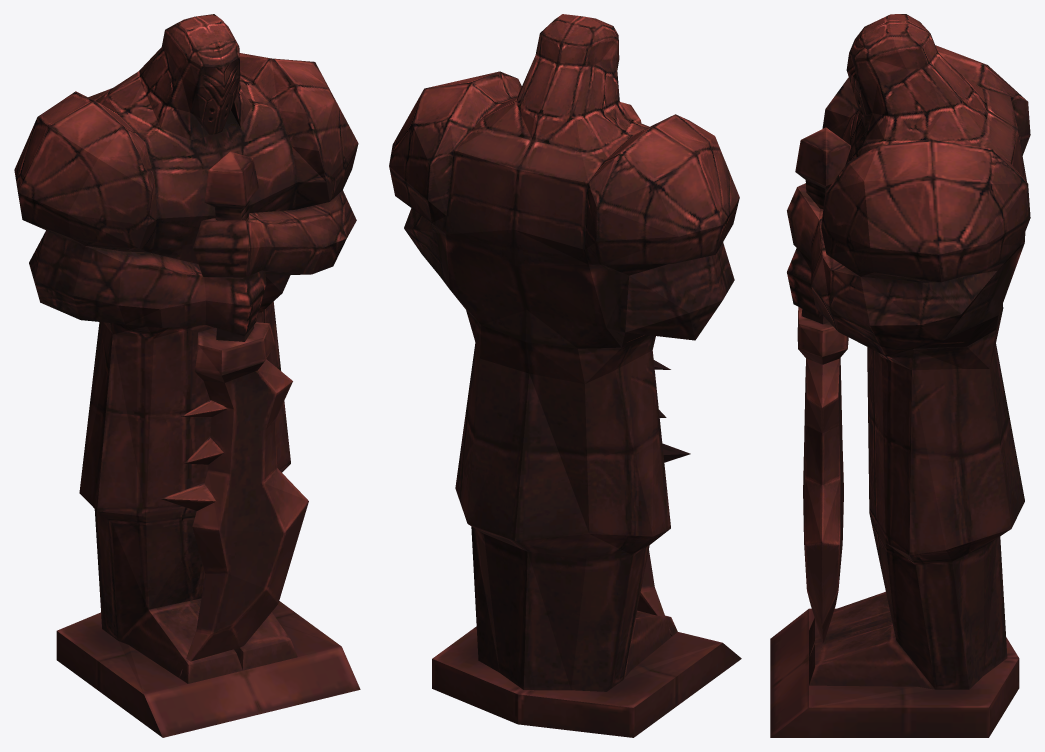
File: statue_large_right_01.fbx
The picture shows the model from 3 angles, left to right: view 1: azimuth 30°, elevation 25°; view 2: azimuth 150°, elevation 25°; view 3: azimuth 270°, elevation 25°; orthographic projection. The views are drawn at different scales.
Parts seen in each view (by area): view 1: obj0.050; view 2: obj0.050; view 3: obj0.050.
Boxes of the visible parts, left/top/right/bottom form: obj0.050: left=14, top=14, right=360, bottom=737; obj0.050: left=389, top=14, right=741, bottom=737; obj0.050: left=770, top=14, right=1030, bottom=737.
Bounding box in the file's own units: 4.64 × 8.87 × 3.14.
